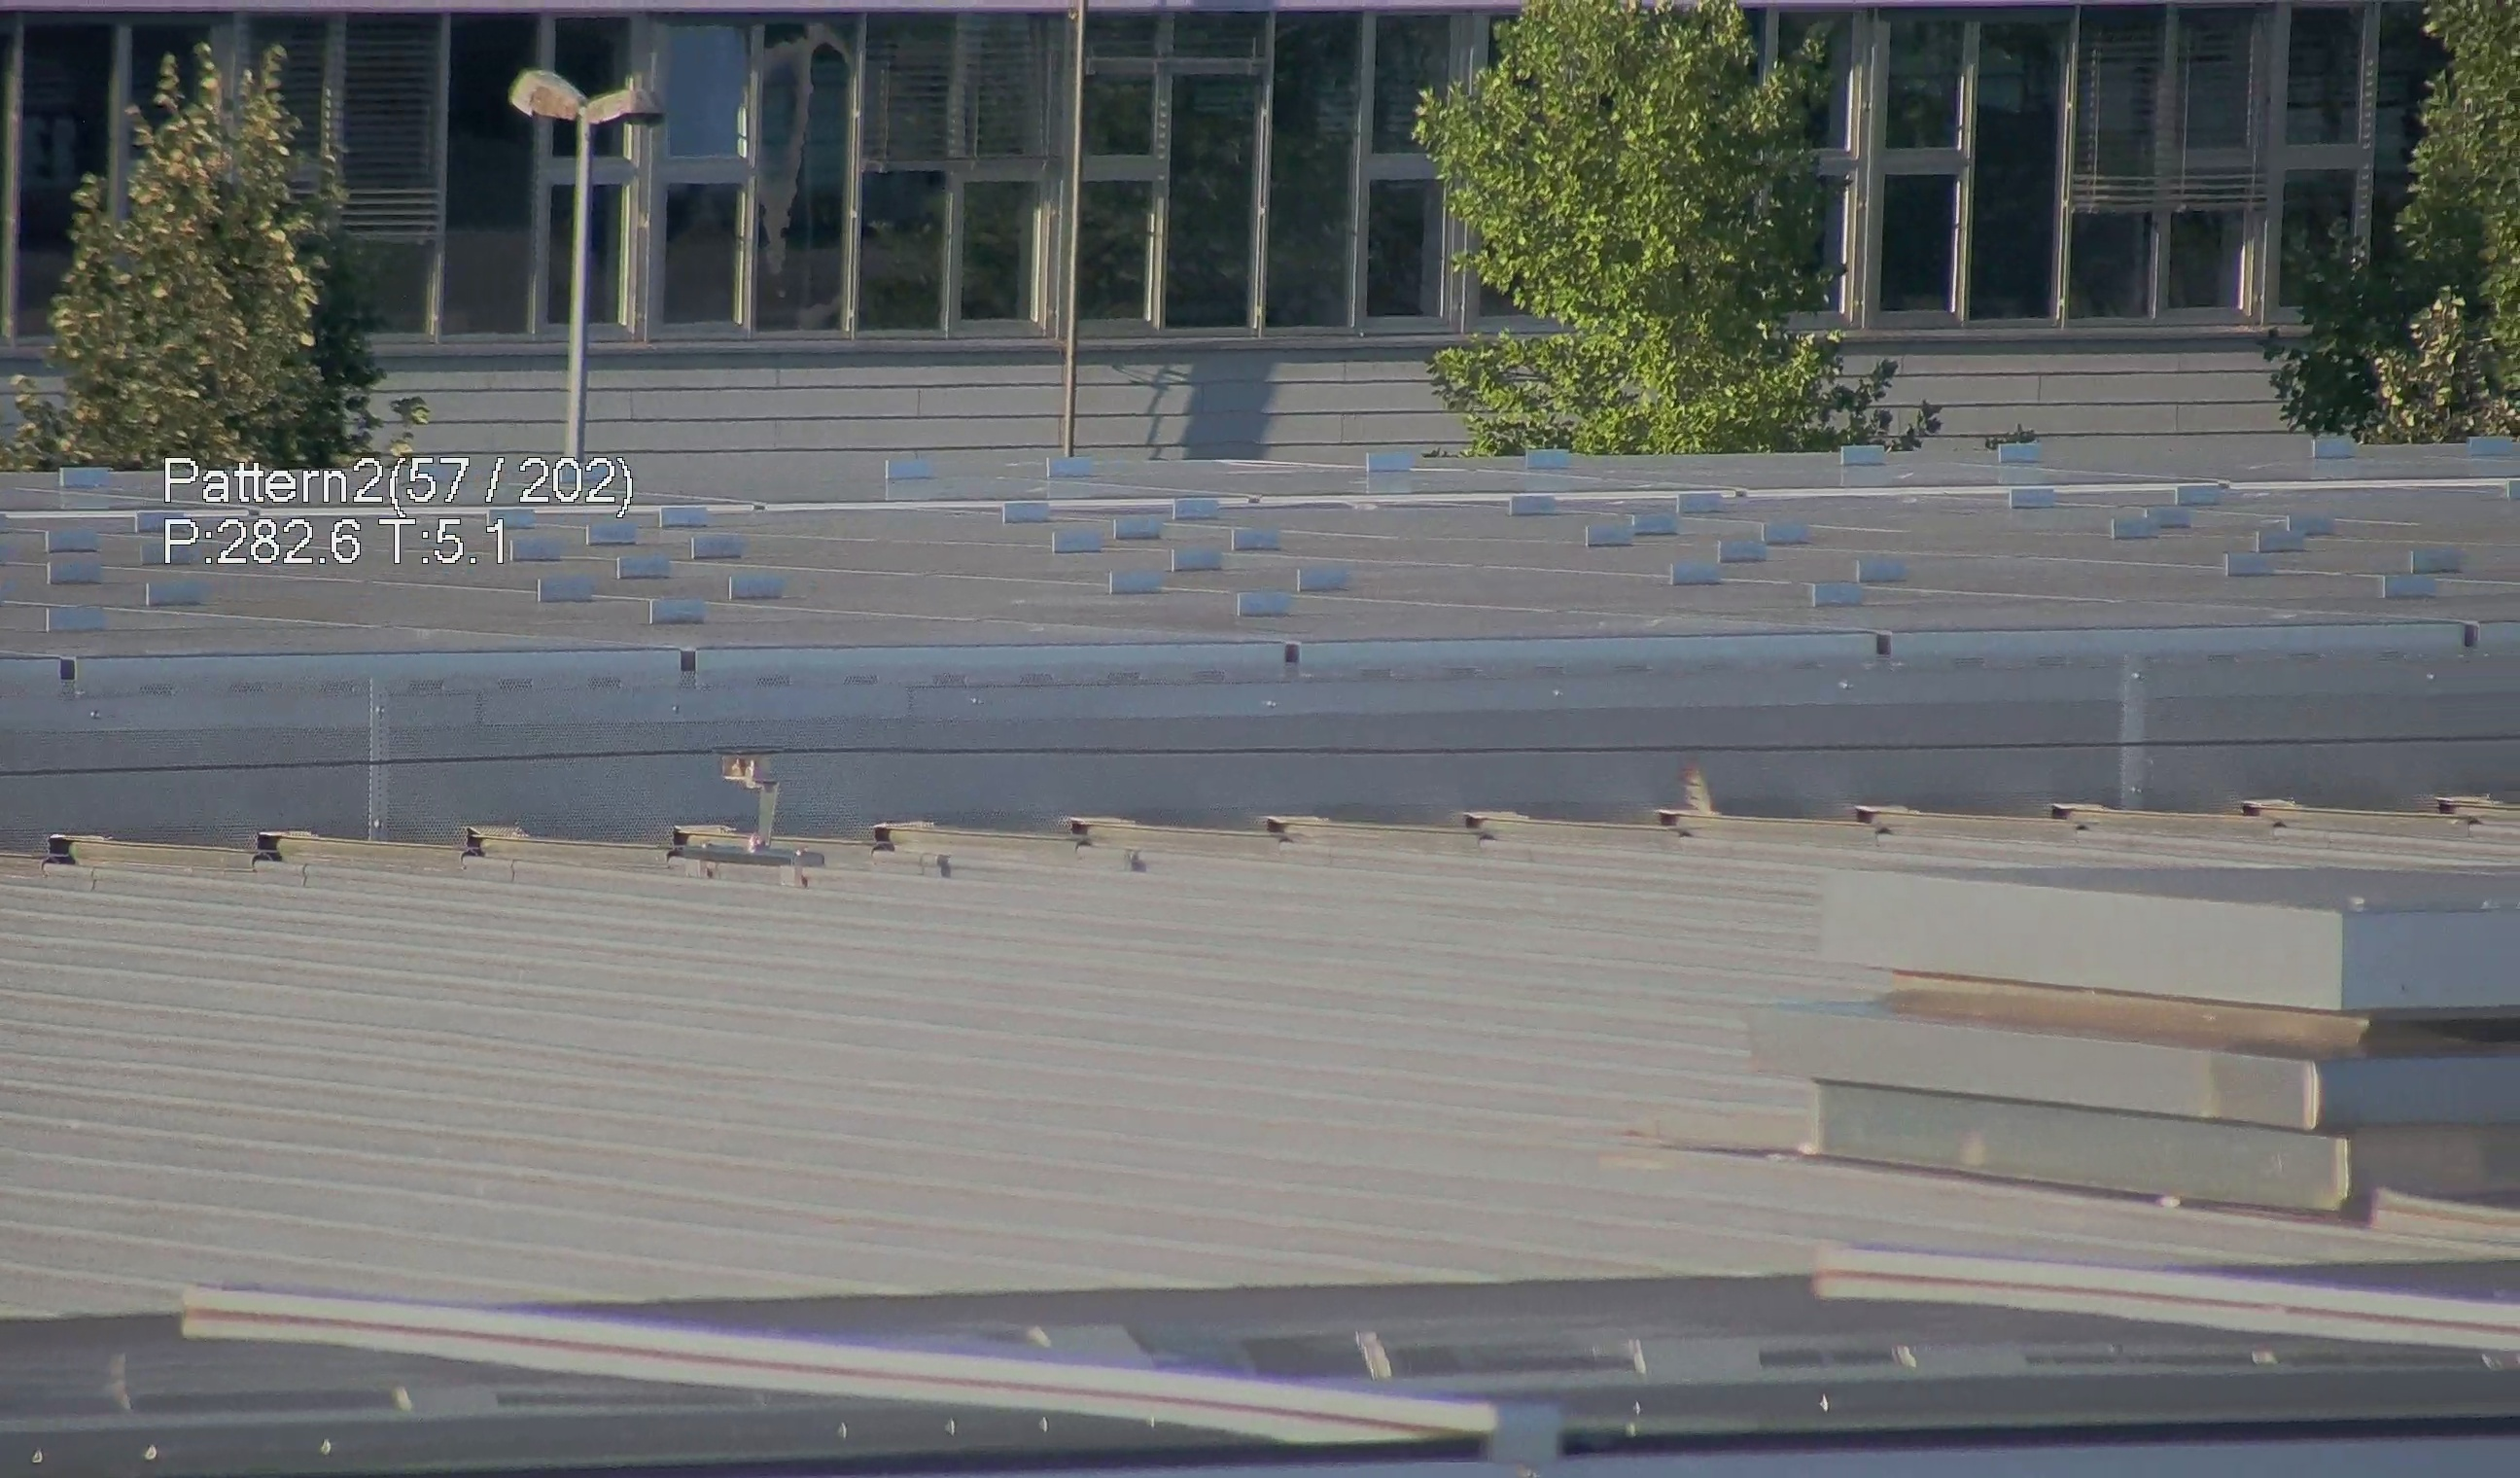Other: (1664, 746, 1727, 843)
